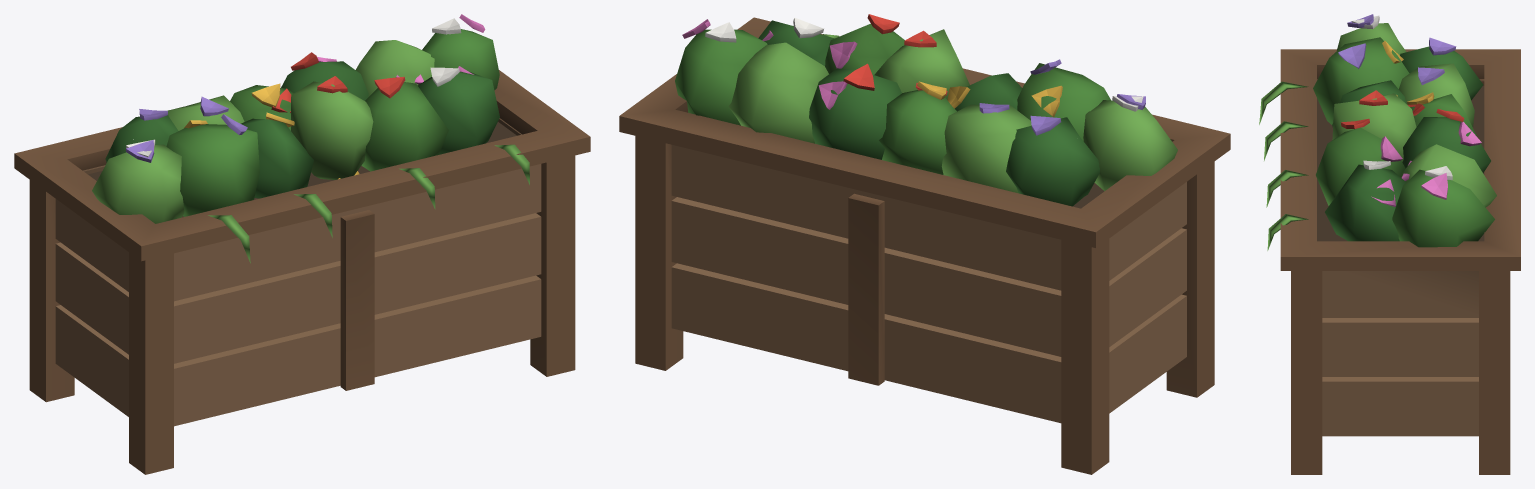
The model's file is planterBox.far.glb.
The picture shows the model from 3 angles, left to right: view 1: azimuth 30°, elevation 25°; view 2: azimuth 150°, elevation 25°; view 3: azimuth 270°, elevation 25°; orthographic projection. The views are drawn at different scales.
Parts seen in each view (by area): view 1: planterBox; view 2: planterBox; view 3: planterBox.
Part boxes in pixels (x1,y1,x2,y2): planterBox: [14, 14, 590, 474]; planterBox: [619, 14, 1230, 474]; planterBox: [1259, 14, 1520, 474].
Bounding box in the file's own units: 0.94 × 0.6074 × 0.501.
